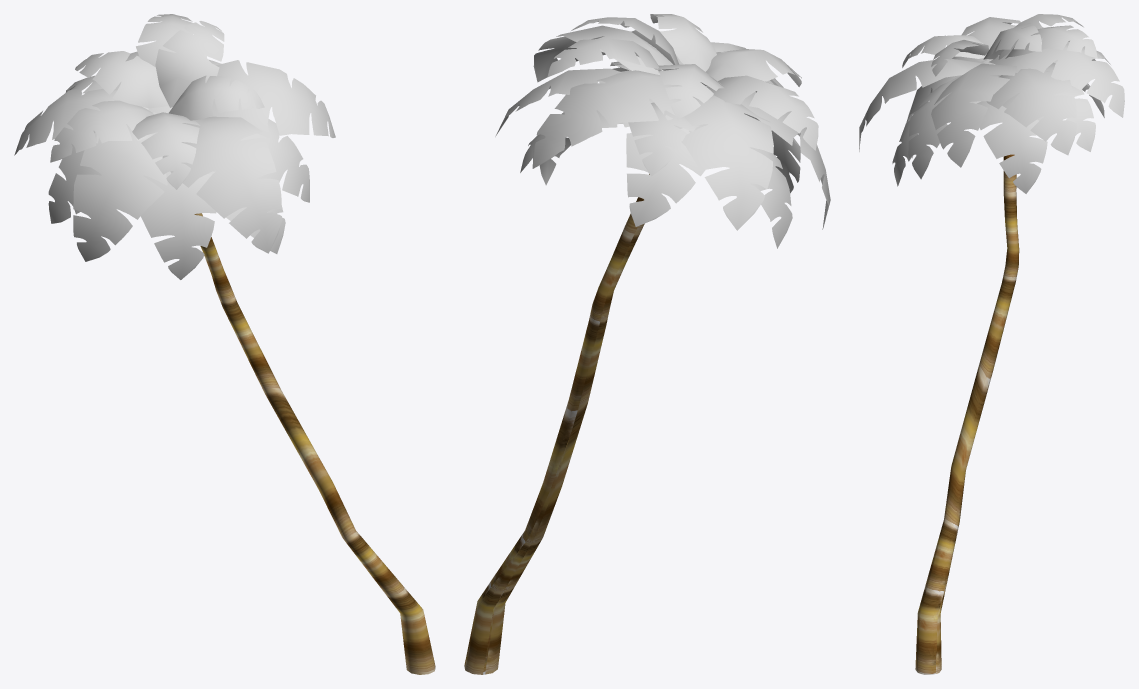
File: Palm_Big.fbx
3 views of the same model, side by side, from view 1: azimuth 30°, elevation 25°; view 2: azimuth 150°, elevation 25°; view 3: azimuth 270°, elevation 25° (orthographic). The views are drawn at different scales.
Visible parts, largest first — view 1: Stvol2; view 2: Stvol2; view 3: Stvol2.
Part boxes in pixels (x1,y1,x2,y2): Stvol2: (14,14,435,674); Stvol2: (464,14,830,674); Stvol2: (859,14,1124,674).
Size of the model in its own units: 554 by 993 by 421.
